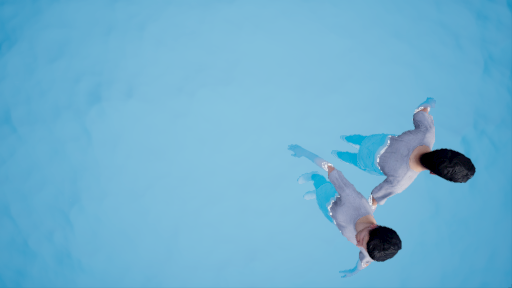person: (283, 87, 475, 272)
